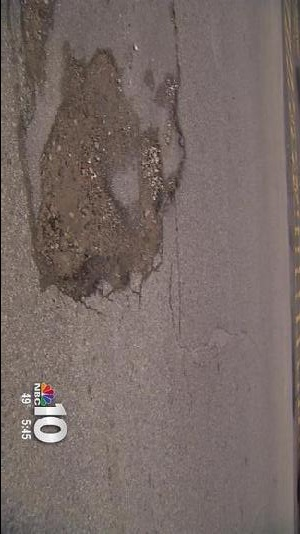pothole: (34, 40, 185, 299)
